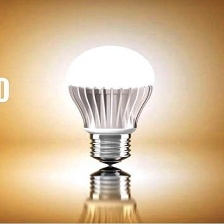light_bulb: (62, 42, 158, 168)
